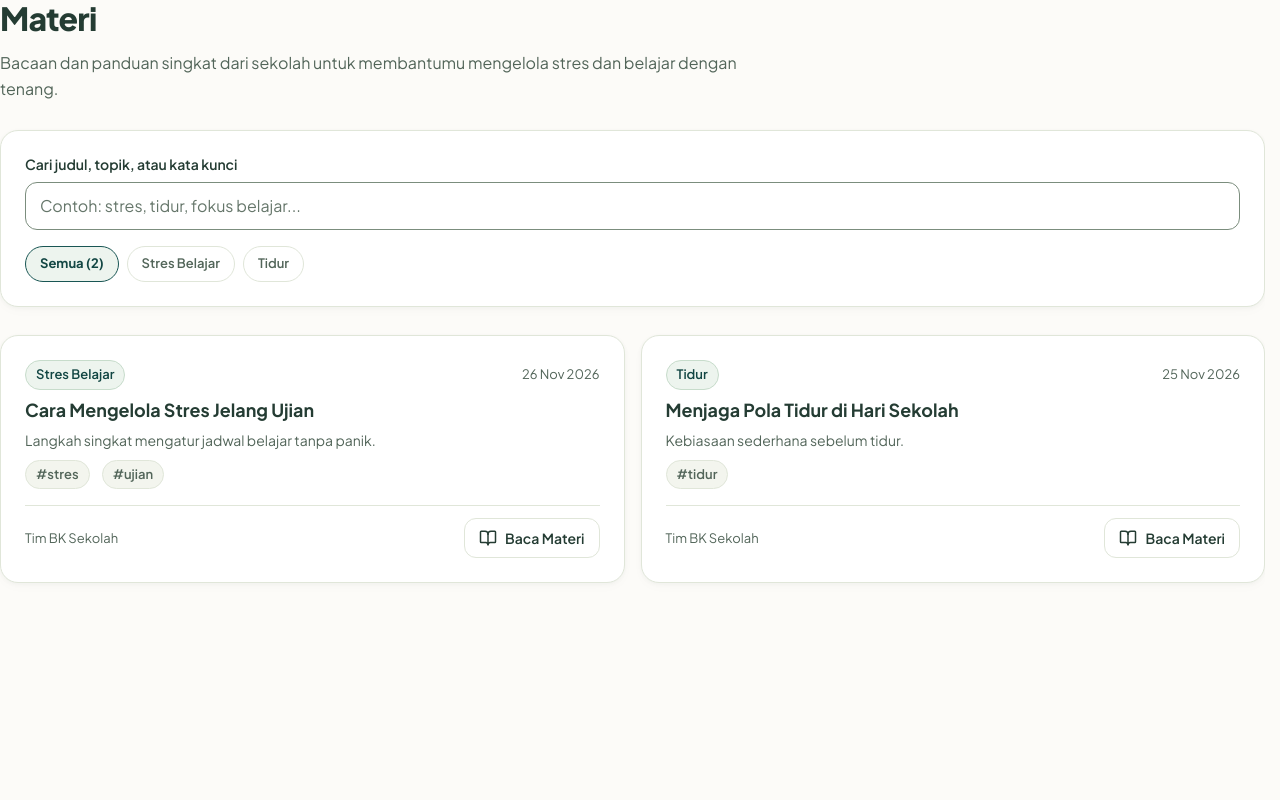
it: Frontend Komponen & Aturan Privasi PRD › Materi siswa: menampilkan materi terbit, mendukung filter topik, dan membuka isi lengkap
This screenshot has width=1280, height=800.
Expected: the heading "Cara Mengelola Stres Jelang Ujian" is shown, 25,398 -> 314,421
Expected: the heading "Menjaga Pola Tidur di Hari Sekolah" is shown, 666,398 -> 958,421
Click the button "Tidur" at point(273, 264), box 243,246 -> 304,282
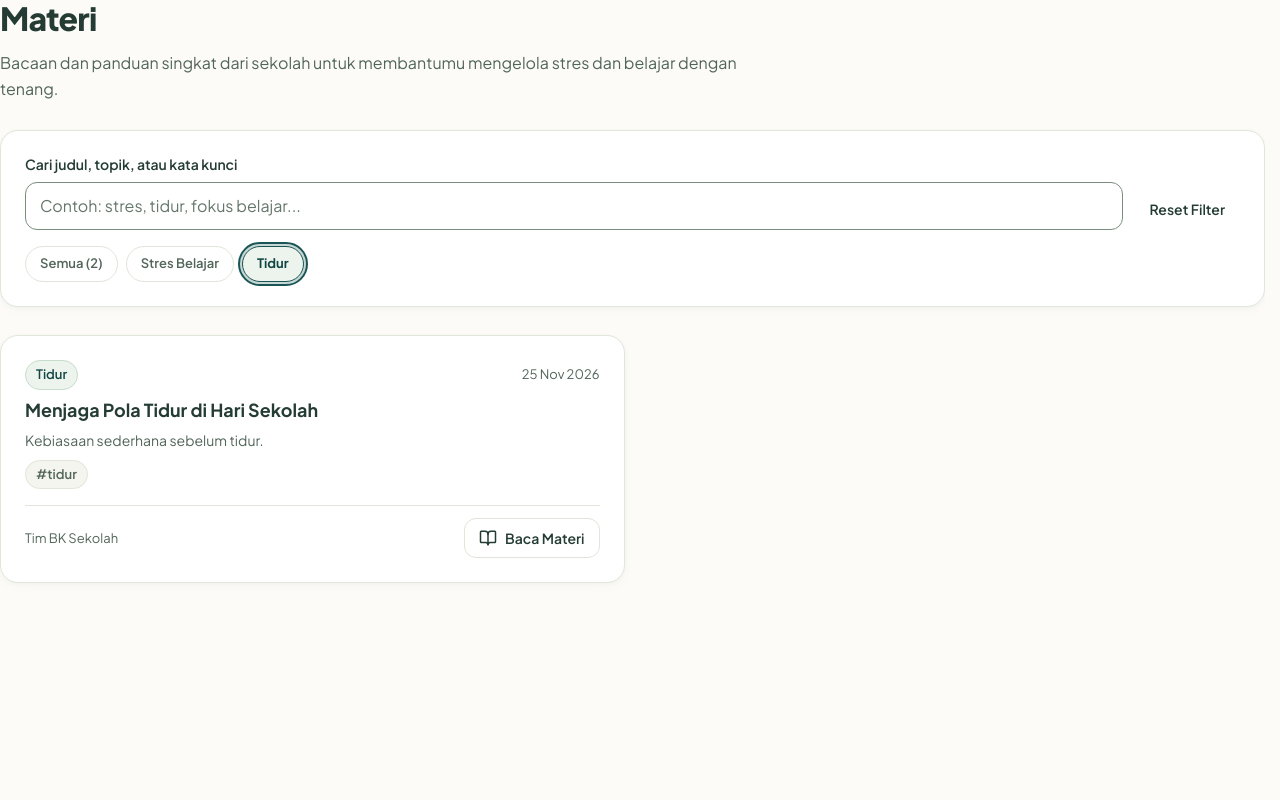
Expected: the heading "Menjaga Pola Tidur di Hari Sekolah" is shown, 25,398 -> 318,421
Now the heading "Cara Mengelola Stres Jelang Ujian" is gone
Click the button "Baca Materi" at point(532, 538), box 464,518 -> 600,558
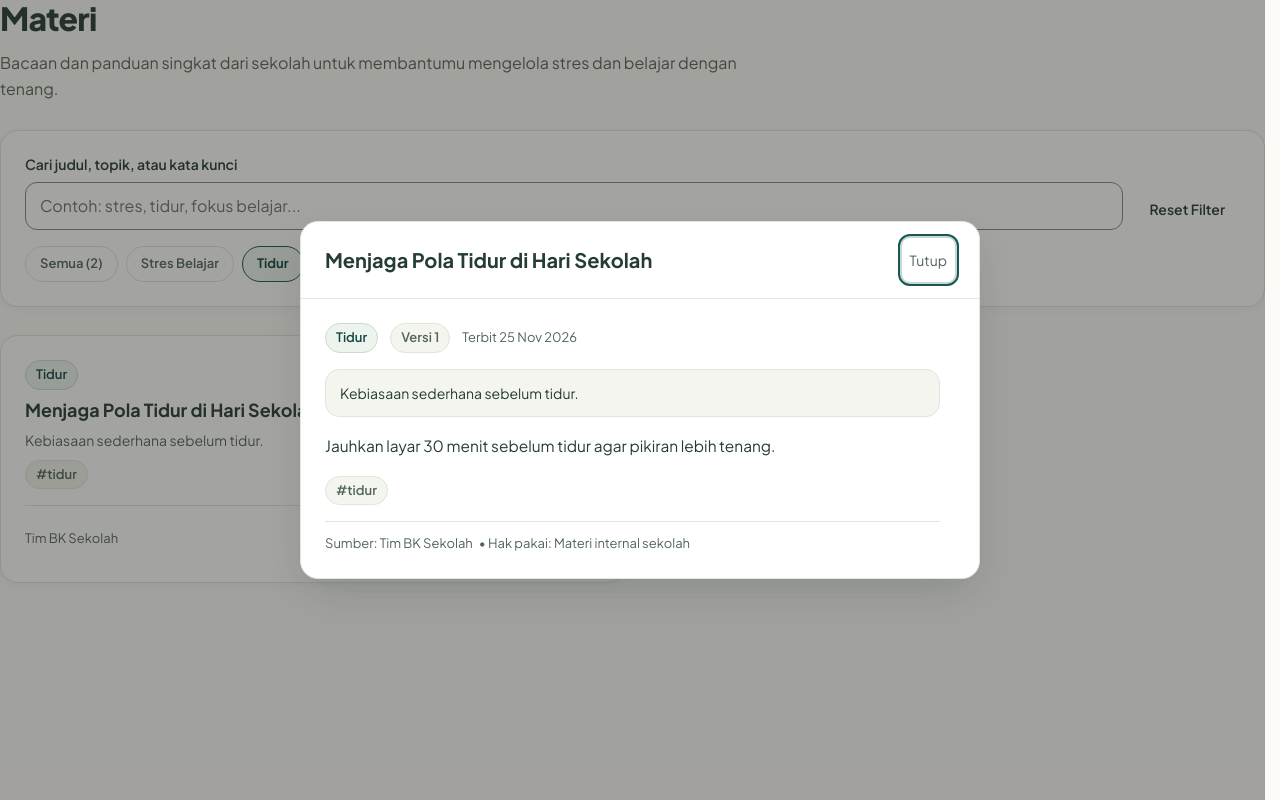
Now the text "Jauhkan layar 30 menit sebelum tidur agar pikiran lebih tenang" is shown, box 325,436 -> 776,455
